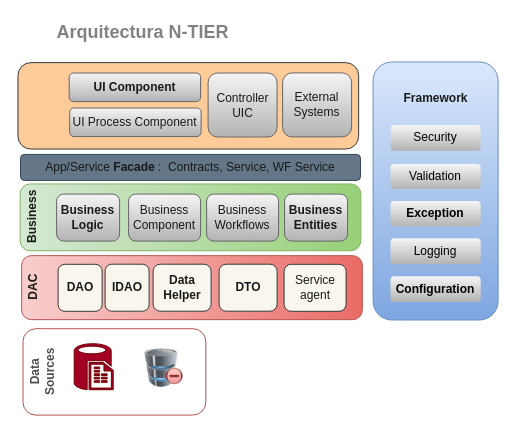
Some shapes in this 516 by 433 pixel diagram are drawn without their labels. Each missing label, with the centre of its shape:
"database" belongs at [164,367].
"SQLITE" belongs at [93,366].
"User Interface" belongs at [188,105].
